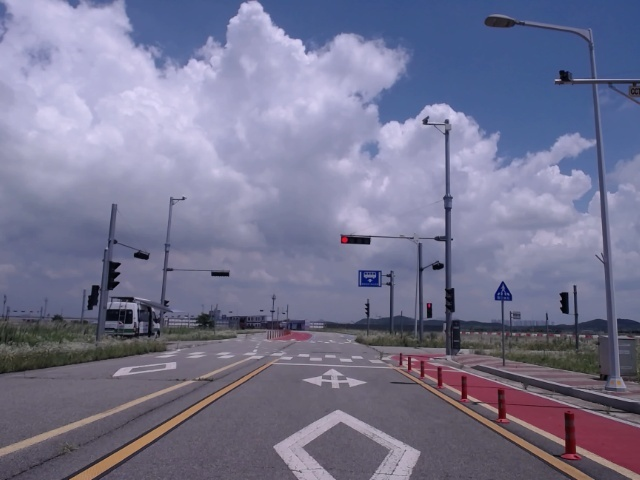red_4: (341, 236, 370, 245)
